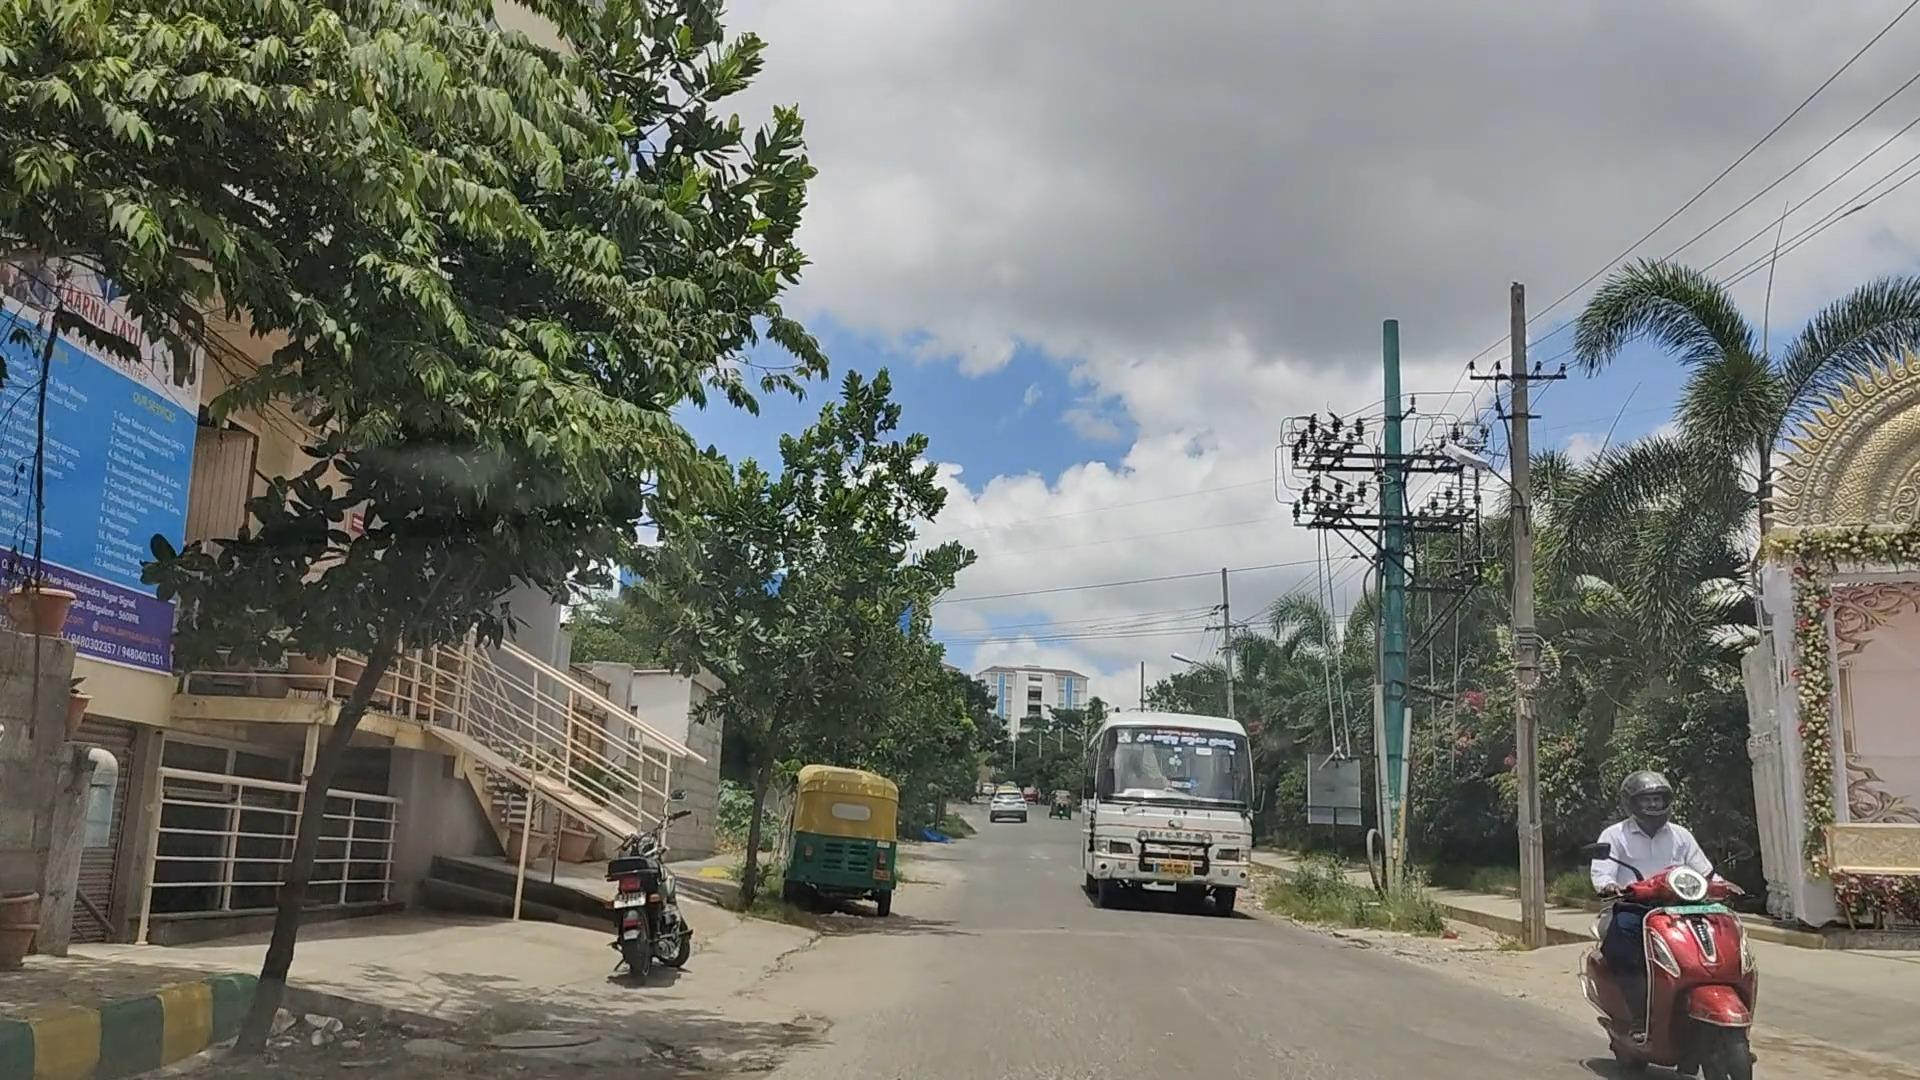HMV: (1083, 703, 1257, 922)
RoadDamages: (397, 967, 818, 1080)
